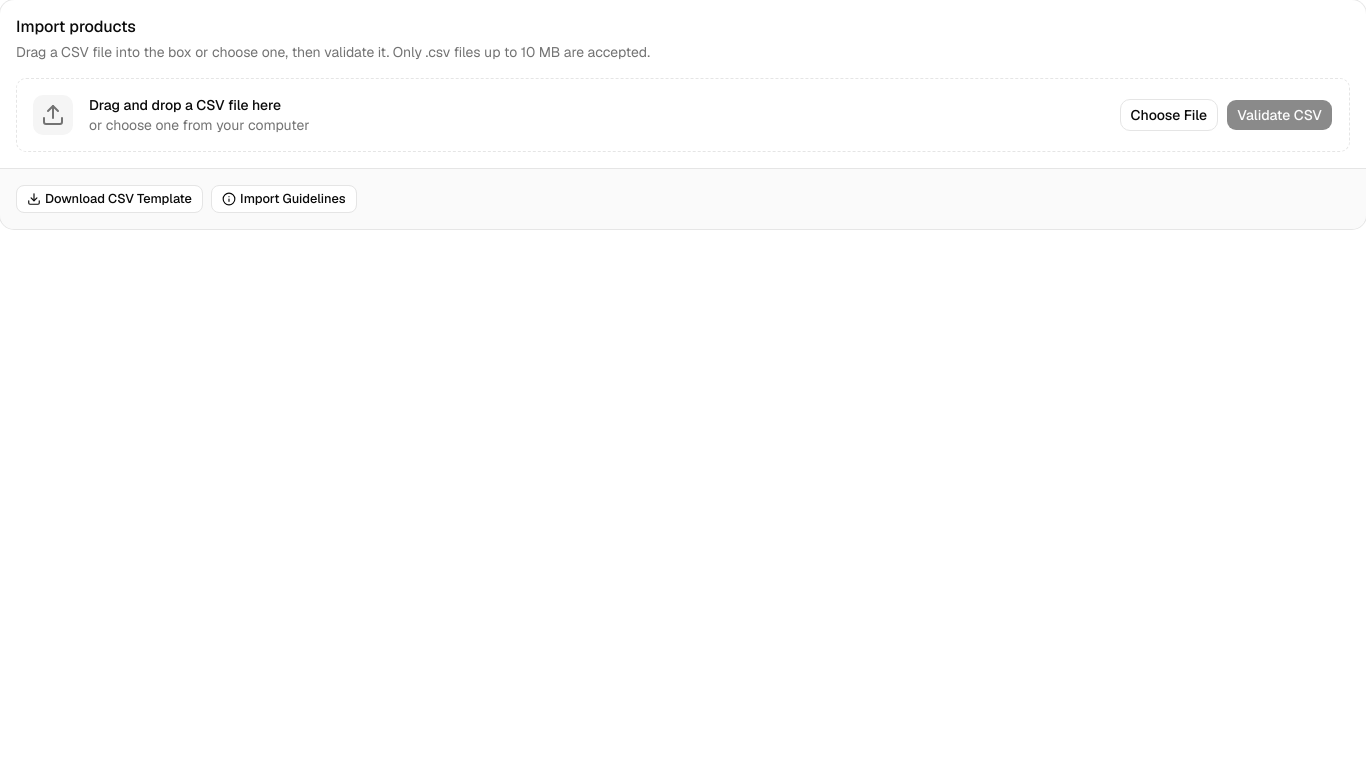
ImportUpload › opens the guidelines in a dialog
Click the button "Import Guidelines": (284, 199) [211, 185, 357, 213]
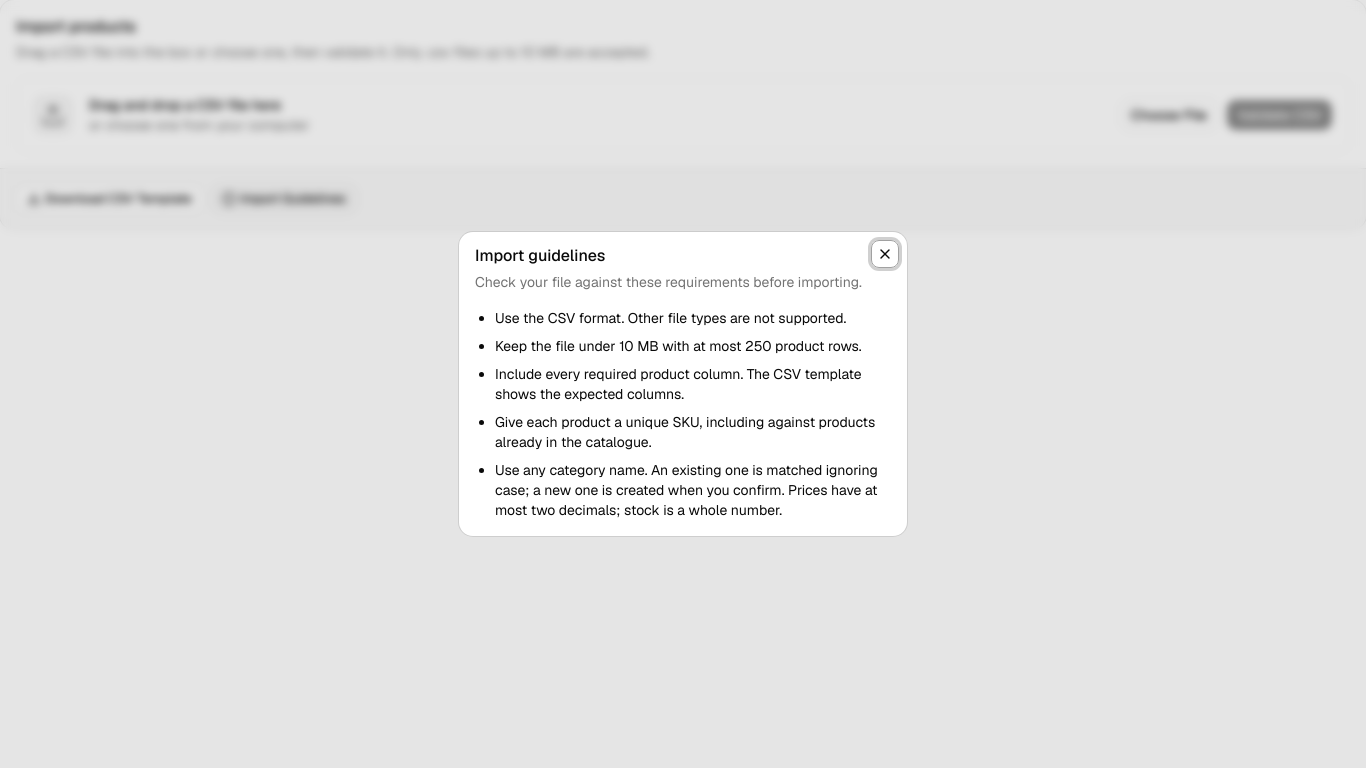
Result: the number of list items is 5 at [495, 308, 891, 328]; [495, 336, 891, 356]; [495, 364, 891, 404]; [495, 412, 891, 452]; [495, 460, 891, 520]
Result: the list item "Keep the file under 10 MB with at most 250 product rows." is shown at [495, 336, 891, 356]
